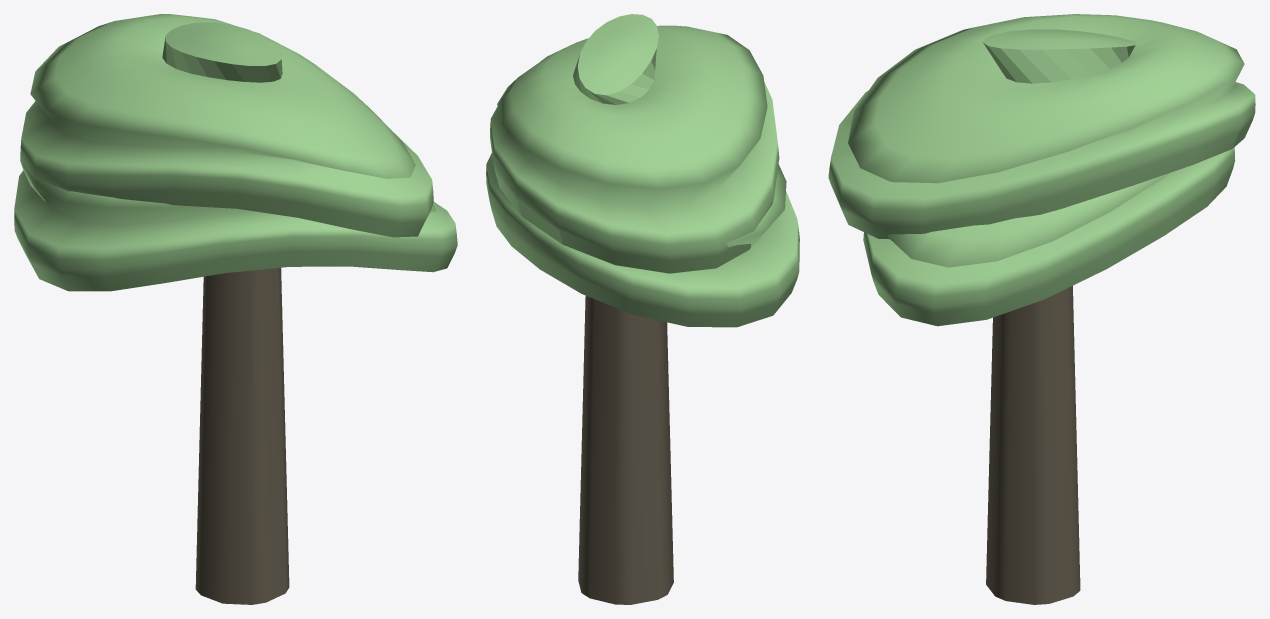
File: tree 1_1.fbx
The picture shows the model from 3 angles, left to right: view 1: azimuth 30°, elevation 25°; view 2: azimuth 150°, elevation 25°; view 3: azimuth 270°, elevation 25°; orthographic projection. The views are drawn at different scales.
Visible parts, largest first — view 1: arbre_1:arbre1_LD5, arbre_1:pCylinder1; view 2: arbre_1:arbre1_LD5, arbre_1:pCylinder1; view 3: arbre_1:arbre1_LD5, arbre_1:pCylinder1.
Boxes of the visible parts, x1,y1,x2,y2 form: arbre_1:arbre1_LD5: (14,14,457,291); arbre_1:pCylinder1: (195,267,289,604); arbre_1:arbre1_LD5: (486,14,799,327); arbre_1:pCylinder1: (578,296,673,604); arbre_1:arbre1_LD5: (828,14,1255,326); arbre_1:pCylinder1: (986,286,1080,604).
Bounding box in the file's own units: 3450 × 5237 × 3695.
